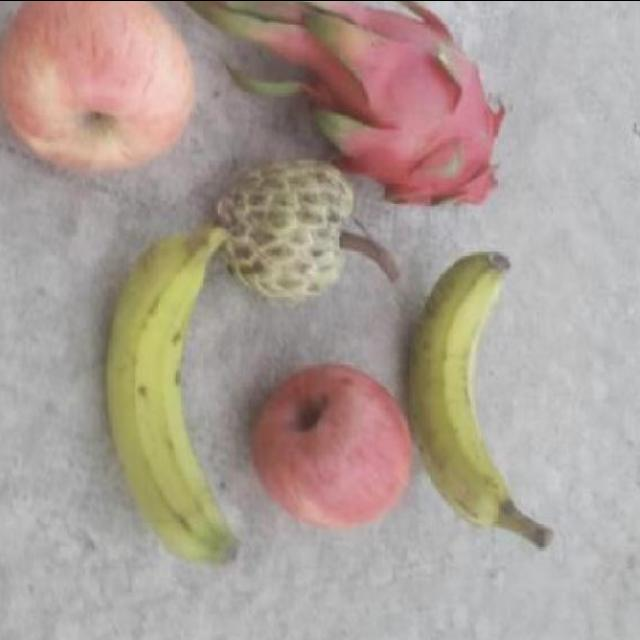apple: (0, 0, 195, 178), (242, 362, 414, 534)
banana: (103, 190, 240, 584), (399, 232, 558, 552)
dragon fruit: (298, 0, 516, 211)
sugar apple: (200, 152, 372, 311)
